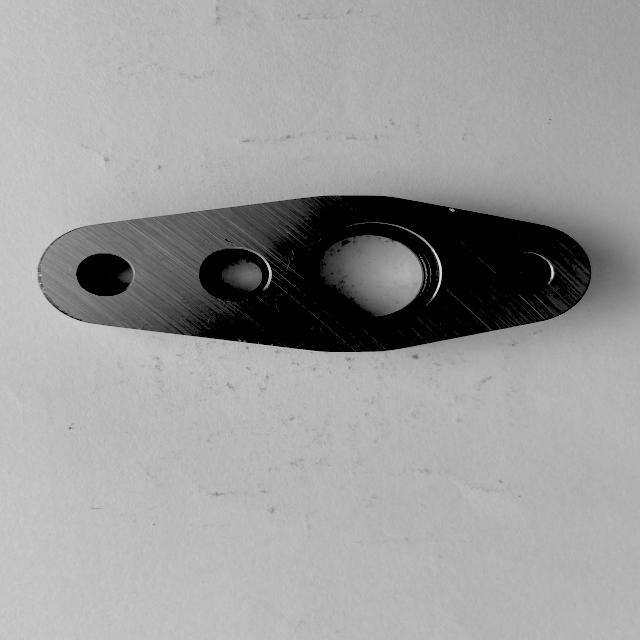chap: (448, 206, 457, 212), (236, 338, 248, 342)
lines: (224, 238, 234, 244)
